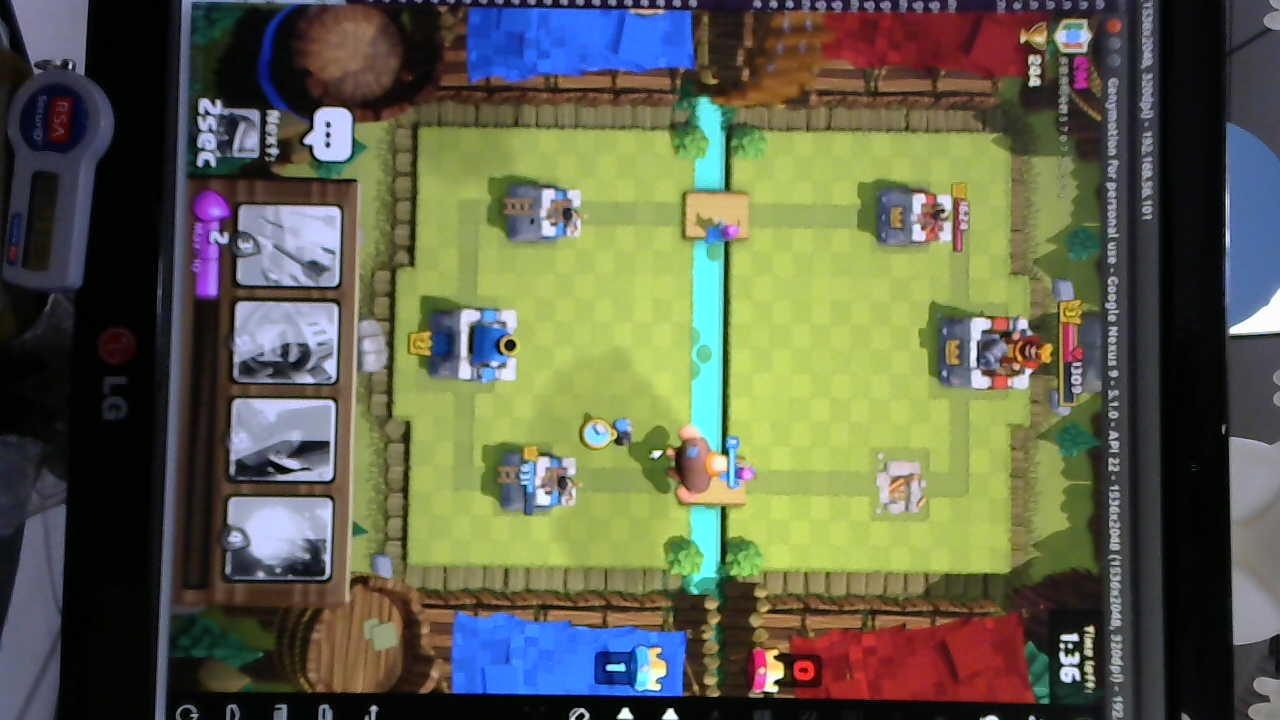bomb: (579, 412, 634, 451)
